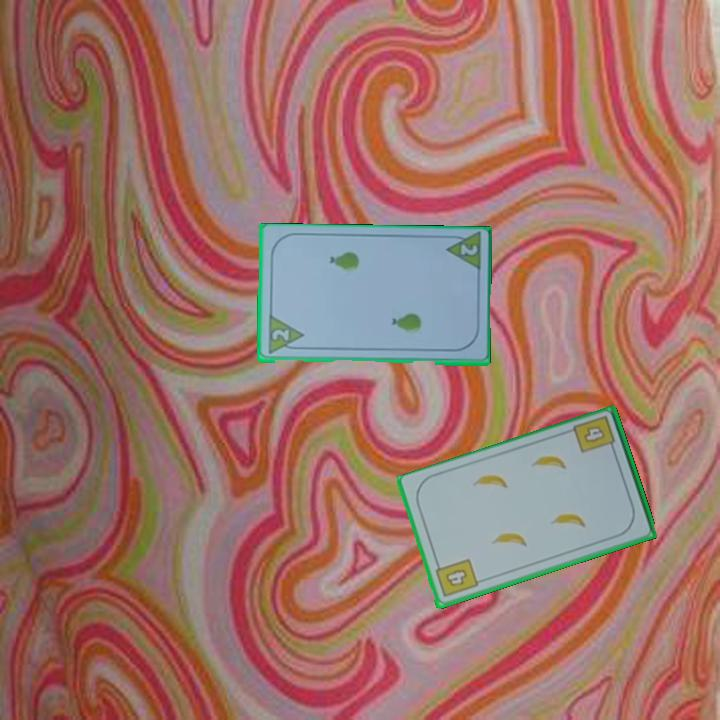2p: (268, 326, 292, 345), (457, 241, 480, 258)
4b: (431, 556, 480, 601), (570, 412, 619, 456)
